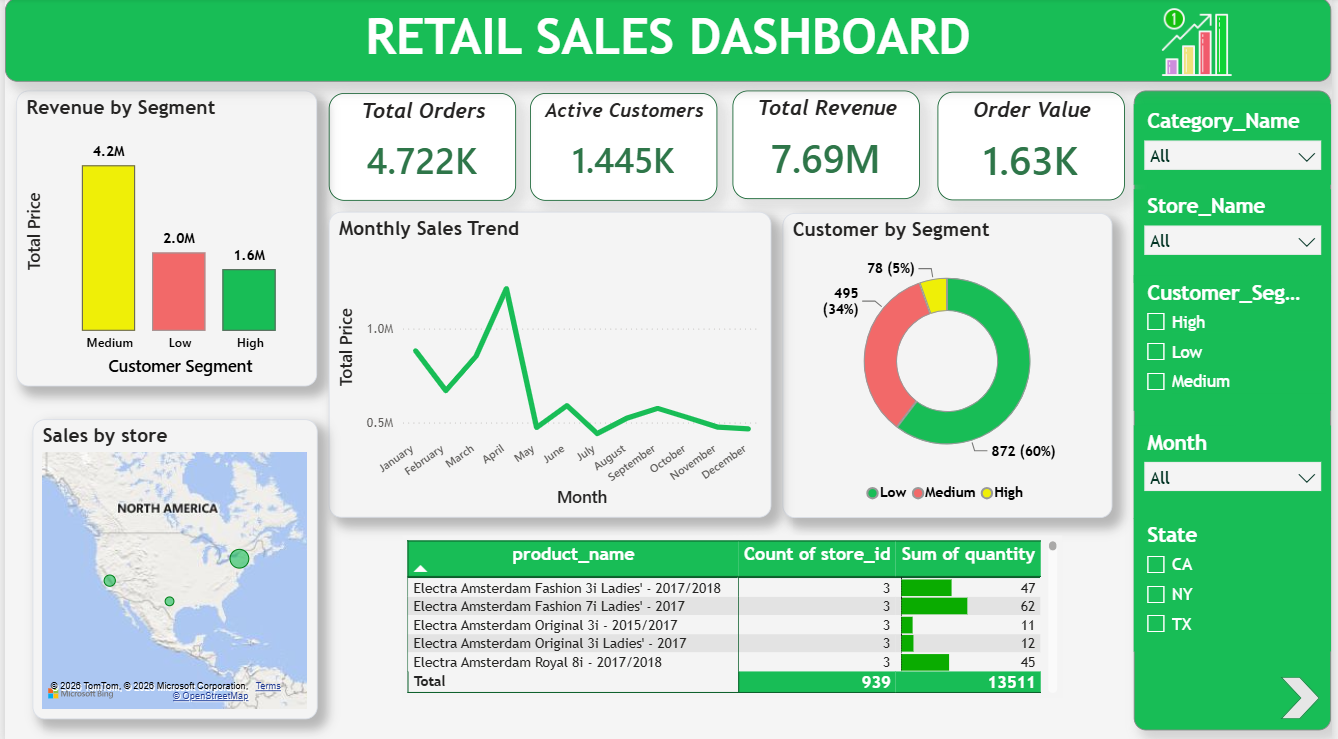

This screenshot's page, from the dashboard's own definition file:
{"tool":"powerbi","page":{"name":"Retail_Sales_Dashboard","canvas":[1280,720],"ordinal":0},"visuals":[{"type":"textbox","box":[1089.4,89.3,190.6,617.7],"z":0},{"type":"cardVisual","title":"Active Customers","fields":{"Data":["Count(retail_sales orders.customer_id)"]},"box":[506.7,91.7,181,103.8],"z":1000},{"type":"cardVisual","title":"Total Revenue","fields":{"Data":["Sum(retail_sales order_items.total_price)"]},"box":[702.1,89.3,181,105],"z":2000},{"type":"cardVisual","title":" Order Value","fields":{"Data":["Avg(retail_sales order_items.total_price)"]},"box":[900,90.5,181,105],"z":3000},{"type":"cardVisual","title":"Total Orders","fields":{"Data":["CountNonNull(retail_sales order_items.order_id)"]},"box":[312.5,91.7,181,103.8],"z":4000},{"type":"donutChart","title":"Customer by Segment","fields":{"Category":["retail_sales customer_segment.customer_segment"],"Y":["CountNonNull(retail_sales customer_segment.customer_id)"]},"box":[750.4,207.5,318.5,294.4],"z":5000},{"type":"clusteredColumnChart","title":"Revenue by Segment","fields":{"Category":["retail_sales customer_segment.customer_segment"],"Y":["Sum(retail_sales order_items.total_price)"]},"box":[10.9,89.3,290.8,285.9],"z":6000},{"type":"lineChart","title":" Monthly Sales Trend","fields":{"Category":["retail_sales orders.order_date.Variation.Date Hierarchy.Month"],"Y":["Sum(retail_sales order_items.total_price)"]},"box":[312.5,206.3,427.1,295.6],"z":7000},{"type":"slicer","fields":{"Values":["retail_sales categories.category_name"]},"box":[1089.4,102.5,190.6,77.2],"z":8000},{"type":"slicer","fields":{"Values":["retail_sales stores.store_name"]},"box":[1089.4,184.6,190.6,90.5],"z":9000},{"type":"slicer","fields":{"Values":["retail_sales customer_segment.customer_segment"]},"box":[1089.4,267.8,190.6,130.3],"z":10000},{"type":"textbox","box":[0,0,1280,80.8],"z":11000},{"type":"slicer","fields":{"Values":["retail_sales orders.order_date.Variation.Date Hierarchy.Month"]},"box":[1089.4,412.6,190.6,89.3],"z":12000},{"type":"slicer","fields":{"Values":["retail_sales customers.state"]},"box":[1089.4,501.9,190.6,129.1],"z":13000},{"type":"shape","box":[1230.6,655.1,38.6,41],"z":15000},{"type":"map","title":"Sales by store","fields":{"Size":["Sum(retail_sales order_items.total_price)"],"Category":["retail_sales customers.state"]},"box":[26.5,406.6,275.1,289.5],"z":16000},{"type":"pivotTable","fields":{"Rows":["retail_sales products.product_name"],"Values":["CountNonNull(retail_sales stocks.store_id)","Sum(retail_sales stocks.quantity)"]},"box":[383.6,518.8,637,156.8],"z":17000},{"type":"image","box":[1031.5,0,237.7,89.3],"z":17005}]}

Visuals, with their boxes in screenshot pixels (x1, y1, x2, y2), scaled from the page's 1280x720 canvas onto the 1338x739 screenshot:
textbox: (x1=1139, y1=92, x2=1337, y2=726)
"Active Customers" cardVisual: (x1=530, y1=94, x2=719, y2=201)
"Total Revenue" cardVisual: (x1=734, y1=92, x2=923, y2=199)
" Order Value" cardVisual: (x1=941, y1=93, x2=1130, y2=201)
"Total Orders" cardVisual: (x1=327, y1=94, x2=516, y2=201)
"Customer by Segment" donutChart: (x1=784, y1=213, x2=1117, y2=515)
"Revenue by Segment" clusteredColumnChart: (x1=11, y1=92, x2=315, y2=385)
" Monthly Sales Trend" lineChart: (x1=327, y1=212, x2=773, y2=515)
slicer - retail_sales categories.category_name: (x1=1139, y1=105, x2=1337, y2=184)
slicer - retail_sales stores.store_name: (x1=1139, y1=189, x2=1337, y2=282)
slicer - retail_sales customer_segment.customer_segment: (x1=1139, y1=275, x2=1337, y2=409)
textbox: (x1=0, y1=0, x2=1337, y2=83)
slicer - retail_sales orders.order_date.Variation.Date Hierarchy.Month: (x1=1139, y1=423, x2=1337, y2=515)
slicer - retail_sales customers.state: (x1=1139, y1=515, x2=1337, y2=648)
shape: (x1=1286, y1=672, x2=1327, y2=714)
"Sales by store" map: (x1=28, y1=417, x2=315, y2=714)
pivotTable - retail_sales products.product_name x CountNonNull(retail_sales stocks.store_id): (x1=401, y1=532, x2=1067, y2=693)
image: (x1=1078, y1=0, x2=1327, y2=92)
